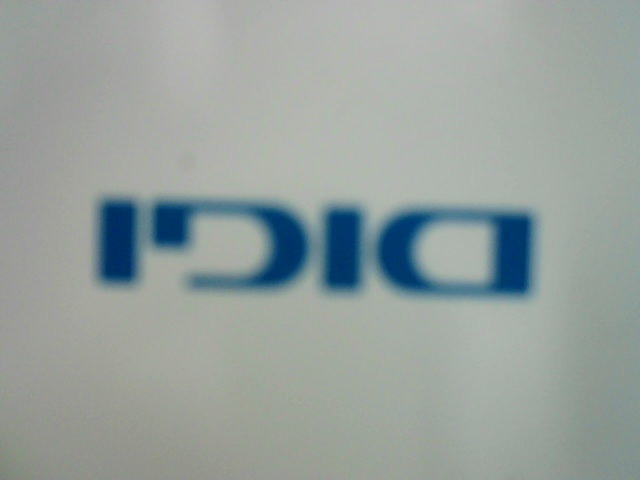BL_DIGI: (98, 178, 547, 303)
